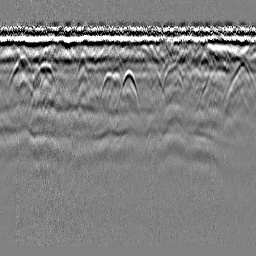cavity: (114, 68, 141, 110)
